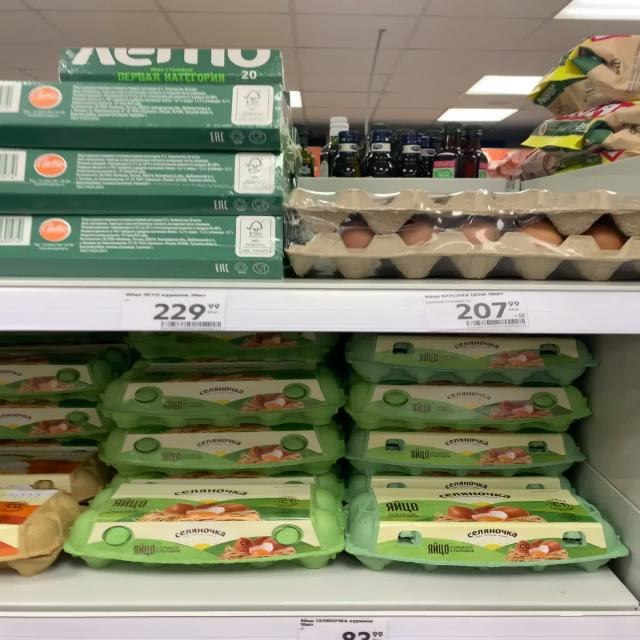egg box: (68, 484, 350, 572), (347, 488, 632, 573), (103, 367, 344, 430), (98, 427, 348, 482), (345, 383, 588, 433), (339, 336, 592, 384), (350, 426, 588, 476), (430, 121, 462, 179)
